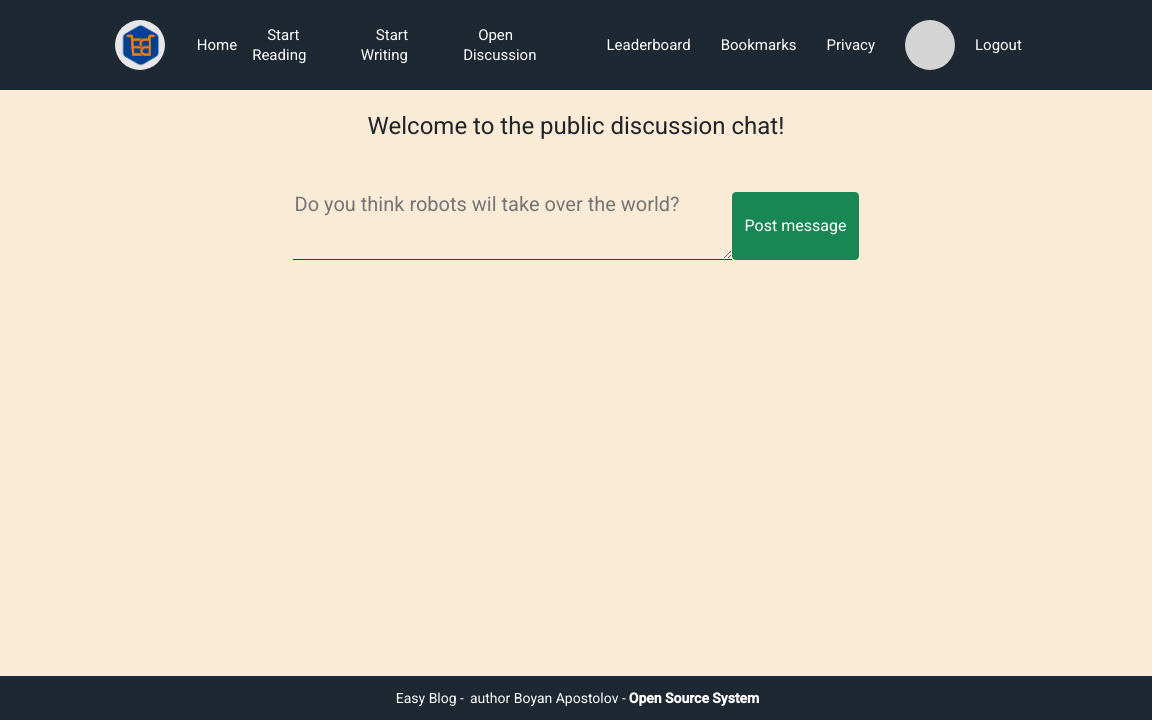
Test: /chat tests › user cannot send empty message
Click the button "Post message".
click(796, 226)  # box [732,192,860,260]
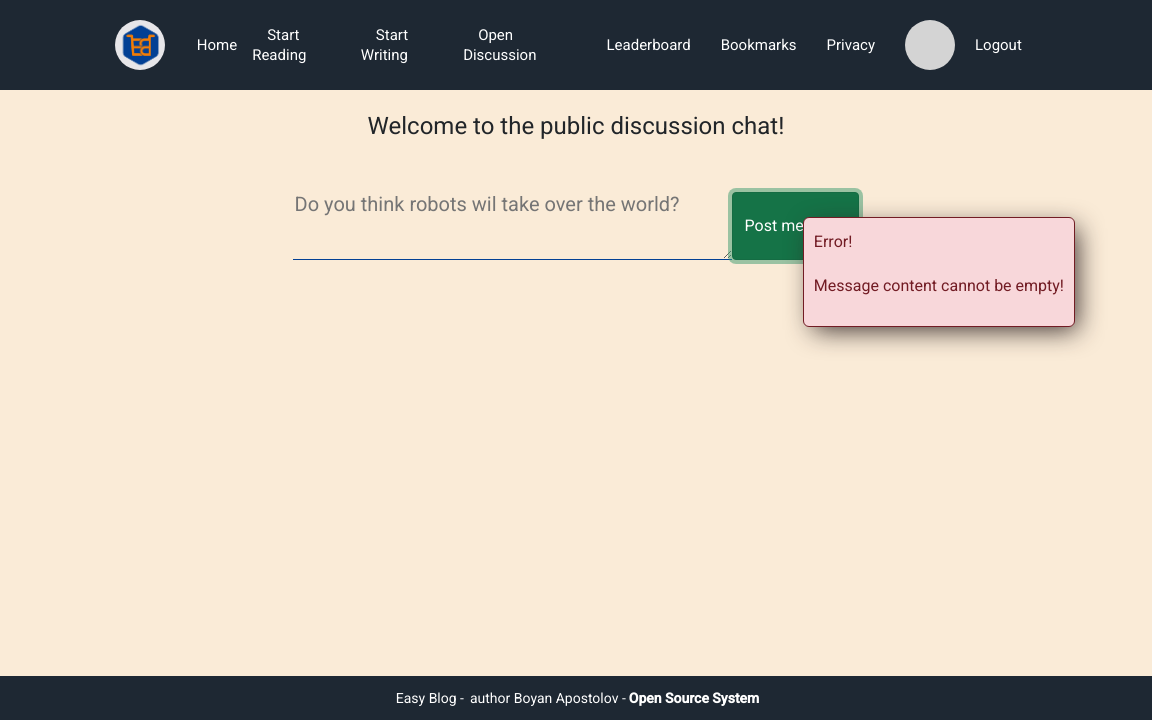
Result: the element with class "danger" is shown at [803,217,1075,327]
